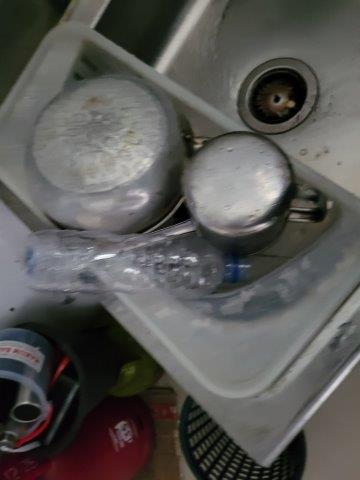botolplastik: (23, 229, 254, 297)
